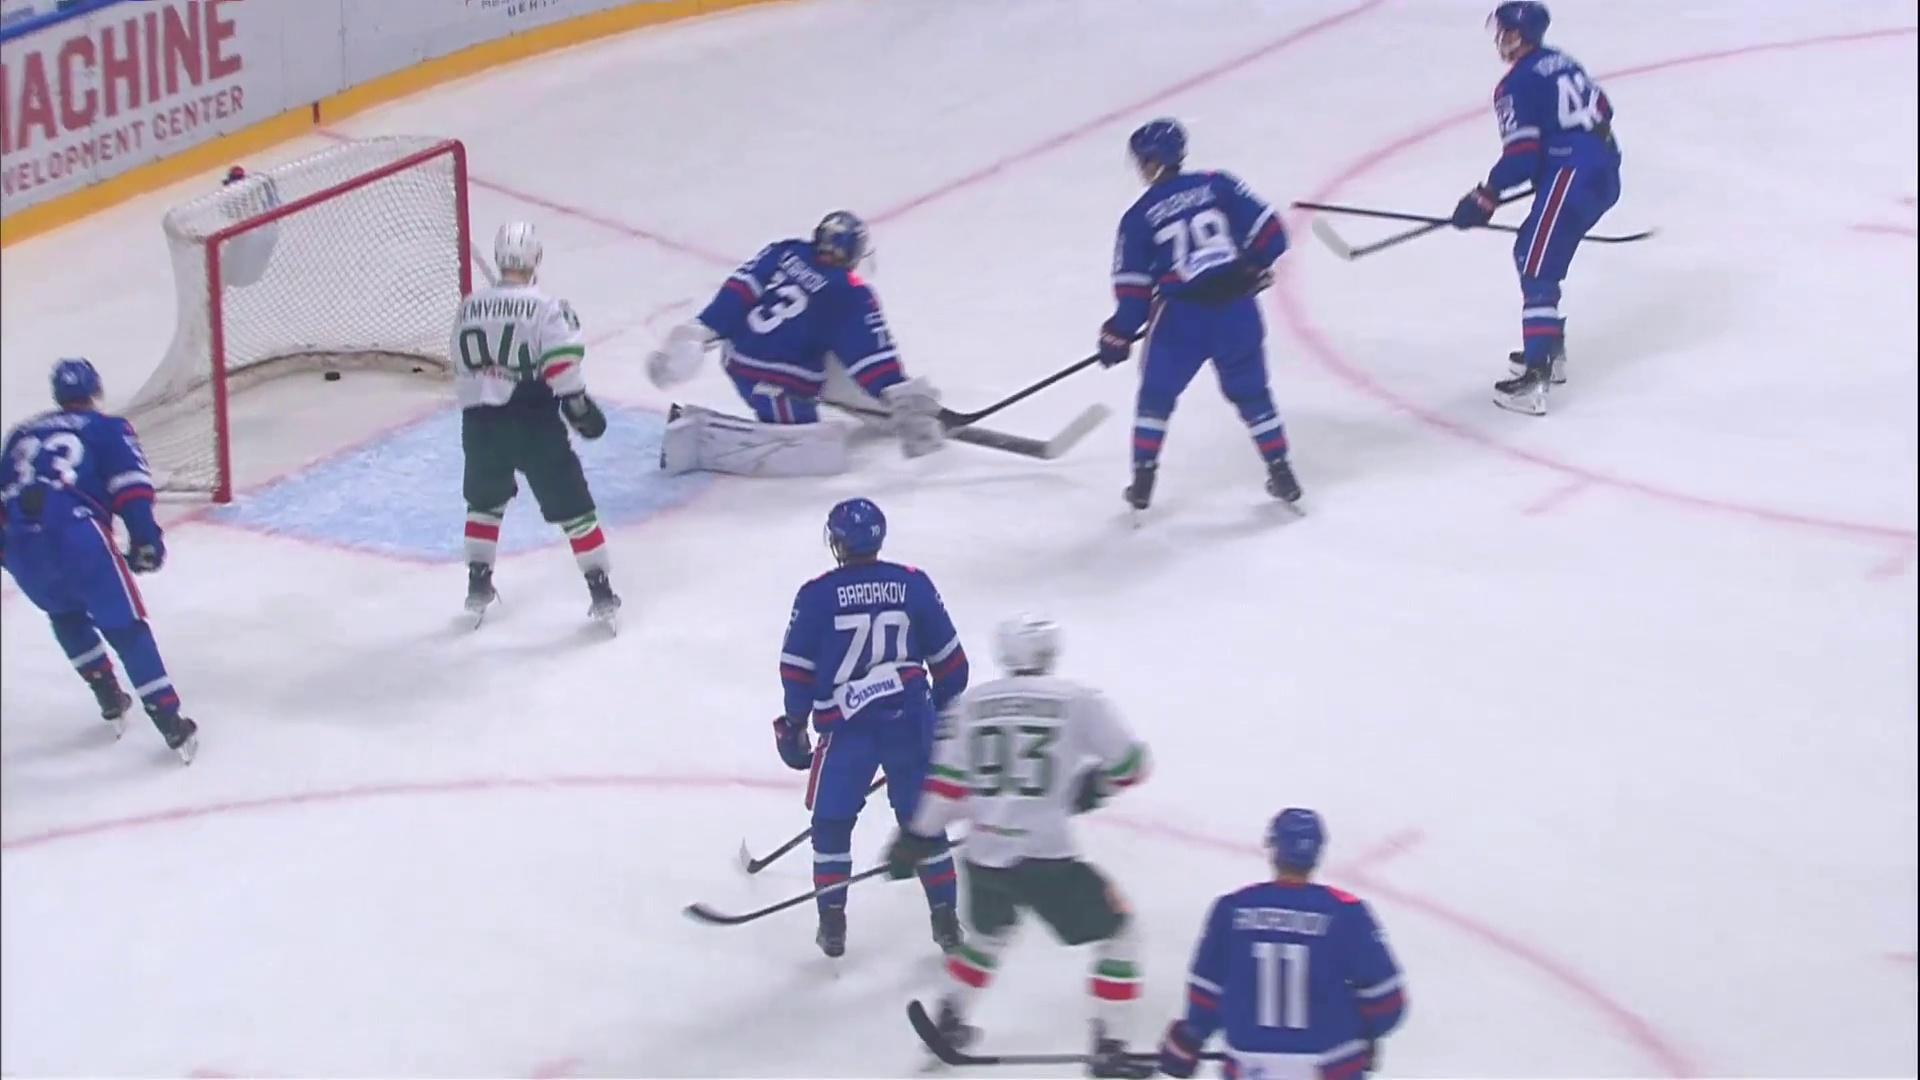ball: (324, 371, 340, 381)
